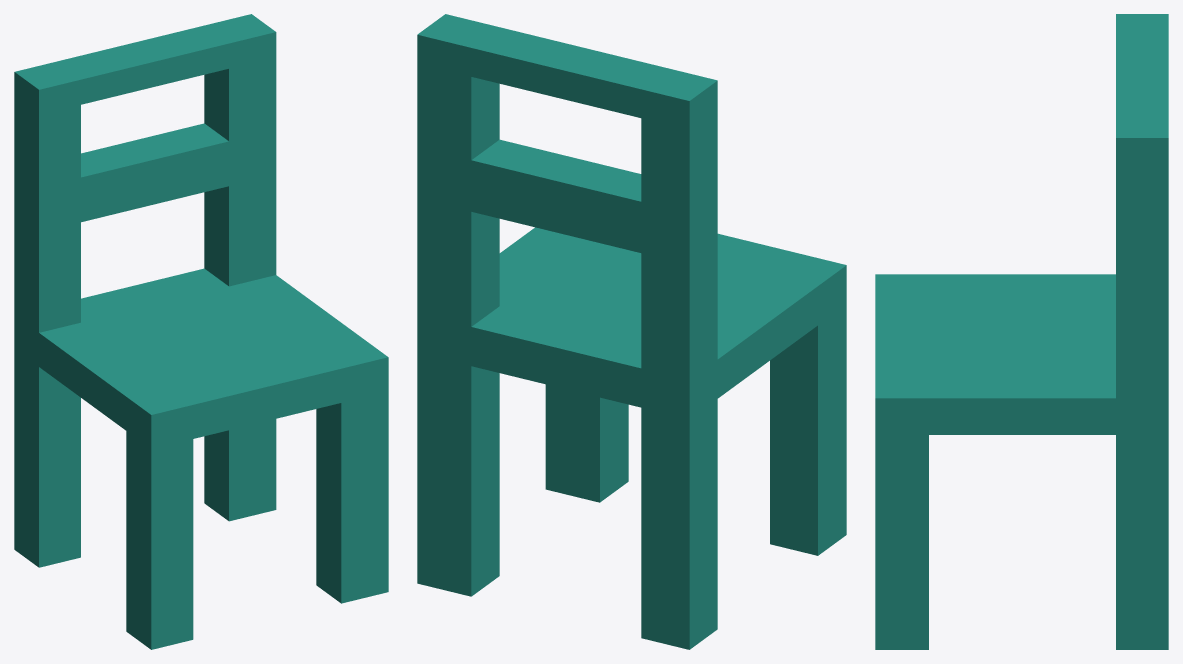
The model's file is SILLA.glb.
The picture shows the model from 3 angles, left to right: view 1: azimuth 30°, elevation 25°; view 2: azimuth 150°, elevation 25°; view 3: azimuth 270°, elevation 25°; orthographic projection. The views are drawn at different scales.
Parts seen in each view (by area): view 1: SILLA; view 2: SILLA; view 3: SILLA.
Boxes of the visible parts, box(x1,y1,x2,y2) form: SILLA: box(14, 14, 388, 649); SILLA: box(417, 14, 846, 649); SILLA: box(875, 14, 1168, 649).
Bounding box in the file's own units: 1.27 × 2.45 × 1.27.
1 material, 1 textured.
